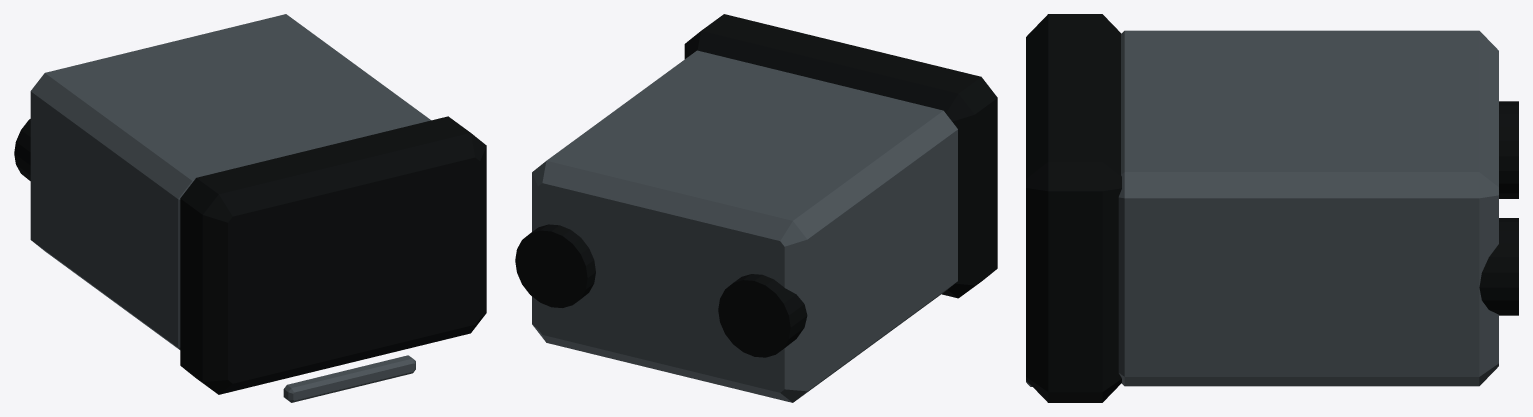
The model's file is barbecue.obj.
The picture shows the model from 3 angles, left to right: view 1: azimuth 30°, elevation 25°; view 2: azimuth 150°, elevation 25°; view 3: azimuth 270°, elevation 25°; orthographic projection. The views are drawn at different scales.
Parts seen in each view (by area): view 1: barbecue_frame, barbecue_metal; view 2: barbecue_metal, barbecue_frame; view 3: barbecue_metal, barbecue_frame.
Part boxes in pixels (bbox=[...]): barbecue_frame: bbox=[14, 116, 486, 394]; barbecue_metal: bbox=[30, 14, 431, 402]; barbecue_metal: bbox=[532, 50, 957, 402]; barbecue_frame: bbox=[515, 14, 997, 357]; barbecue_metal: bbox=[1026, 30, 1498, 386]; barbecue_frame: bbox=[1026, 14, 1518, 402].
Bounding box in the file's own units: 40 × 29.5 × 50.
2 materials, 2 textured.
